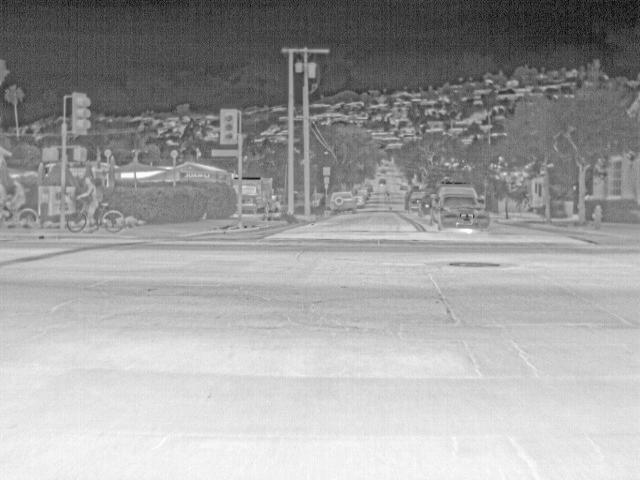car: (434, 192, 491, 233), (329, 191, 358, 214), (405, 184, 420, 214), (420, 188, 434, 218), (438, 182, 475, 190), (352, 193, 365, 209), (359, 188, 371, 198), (377, 178, 387, 188), (363, 183, 373, 192), (398, 181, 408, 190)
person: (83, 174, 102, 234), (9, 177, 27, 232)
